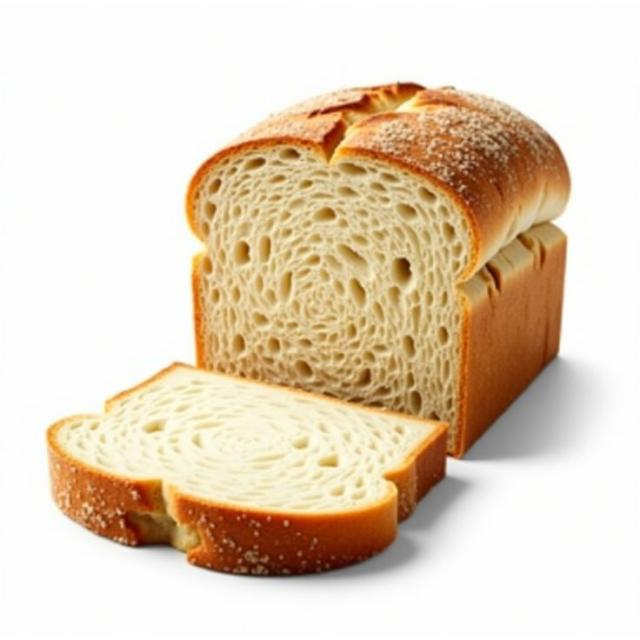bread: (187, 83, 570, 573)
sliced bread: (48, 364, 445, 575)
